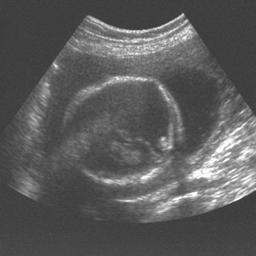abnormal: (60, 72, 184, 186)
